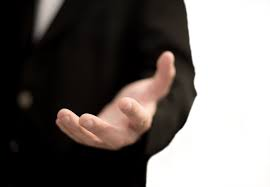hand: (44, 51, 183, 157)
